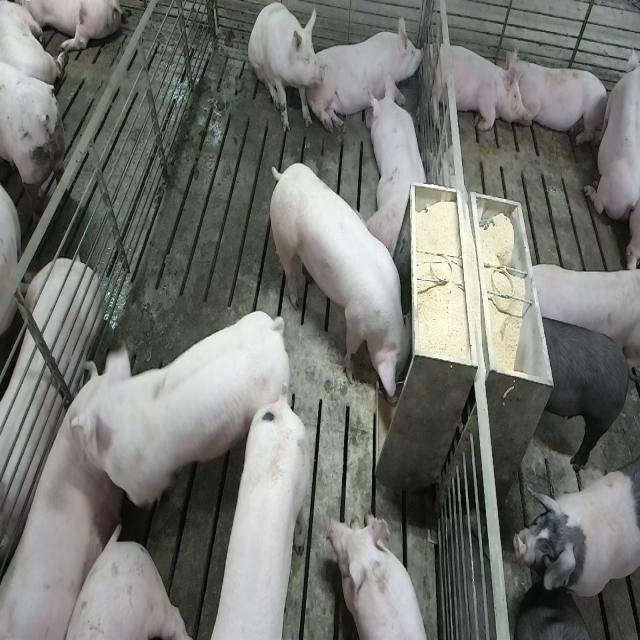Feeding: (272, 161, 420, 410)
Lateral_lying: (0, 258, 102, 588)
Sitting: (248, 1, 326, 136)
Standing: (65, 311, 287, 524), (216, 391, 319, 640), (512, 466, 637, 603), (534, 312, 633, 469), (524, 267, 638, 362), (512, 606, 604, 640)
Sternal_lying: (0, 386, 117, 640), (316, 10, 426, 137), (332, 512, 434, 640), (368, 75, 430, 256), (583, 37, 637, 227), (509, 51, 611, 149), (426, 36, 520, 134)
